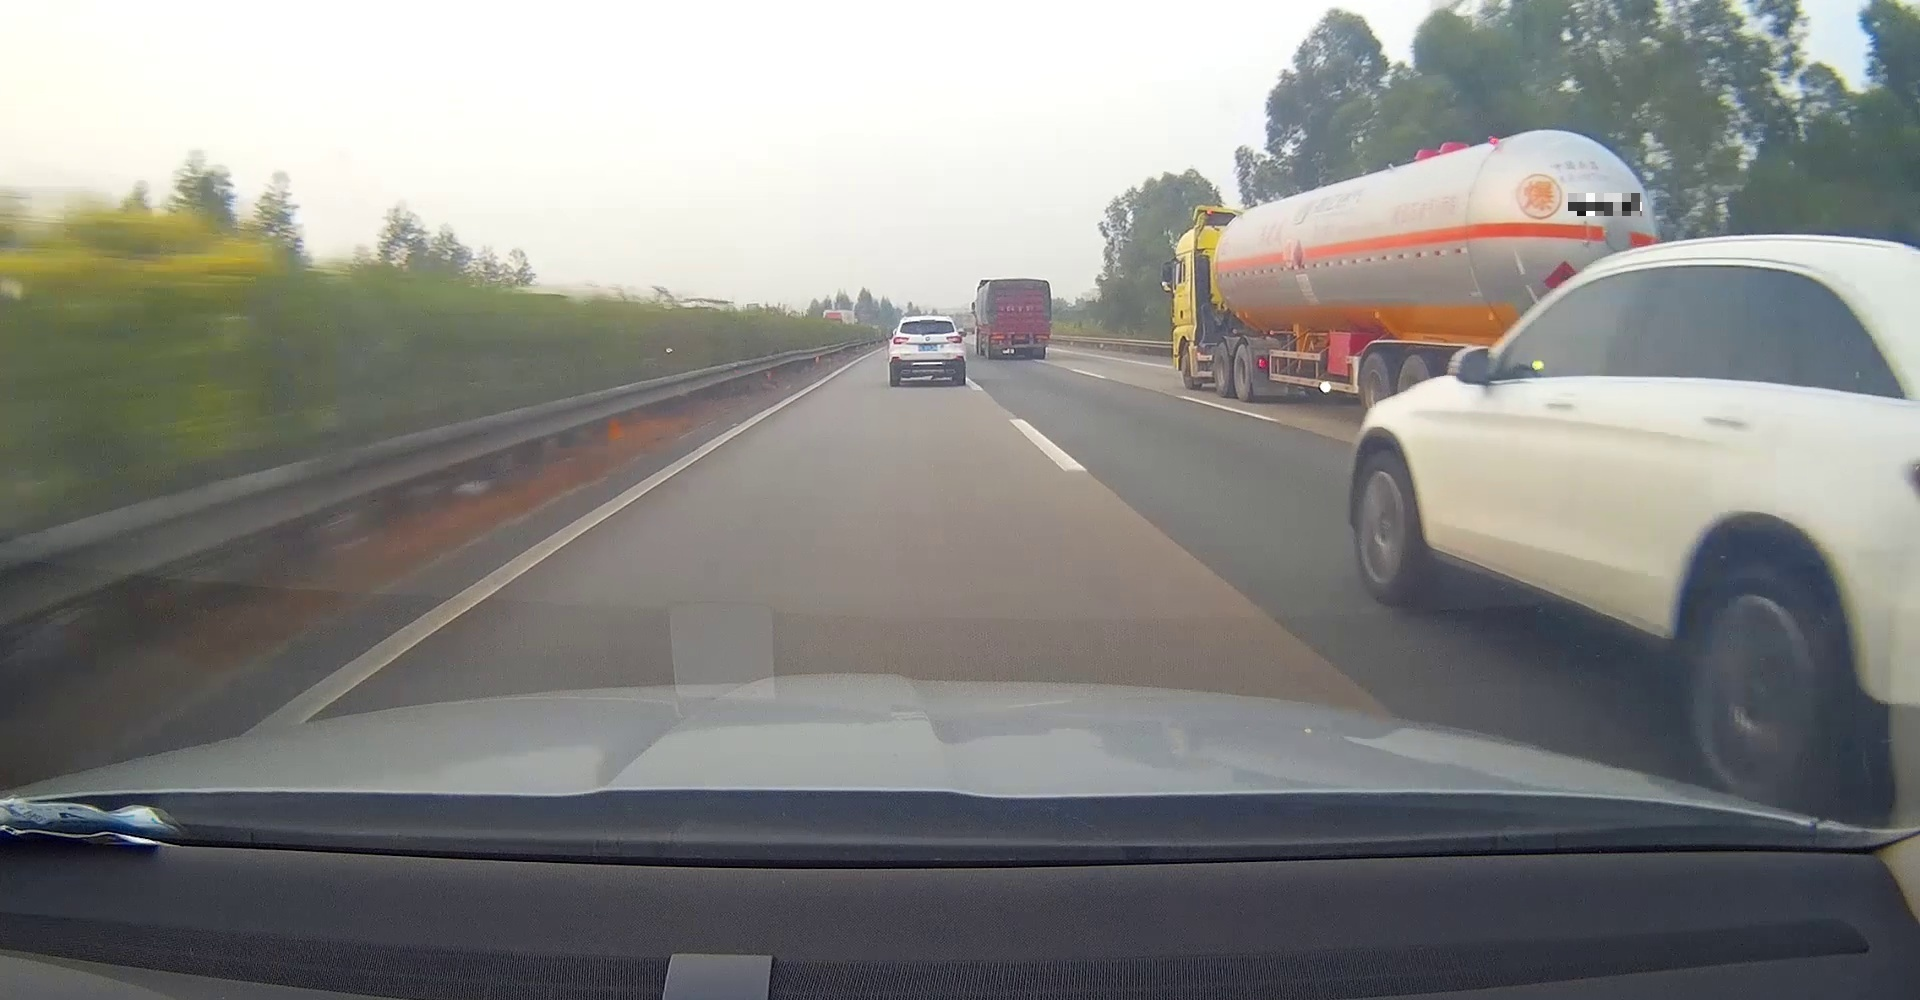L_light: (893, 336, 909, 344), (992, 338, 1003, 341)
R_light: (946, 336, 963, 344), (1036, 338, 1048, 341)
T_light: (919, 319, 936, 324), (1015, 284, 1026, 287)
day-no: (889, 315, 965, 388), (987, 279, 1051, 359)
plate_1: (1568, 193, 1642, 216)
